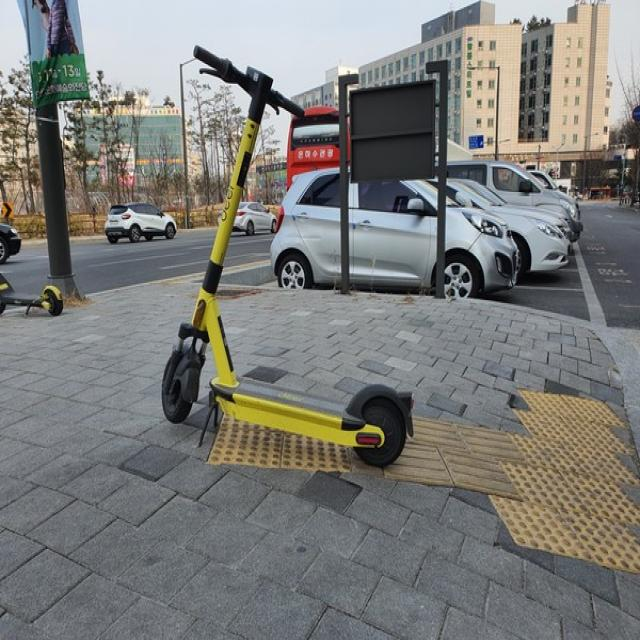kickboard_no: (183, 48, 288, 461)
tactile_paving: (464, 380, 634, 570)
